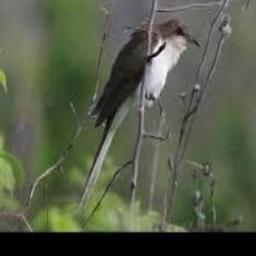Cuckoo: (77, 16, 200, 213)
